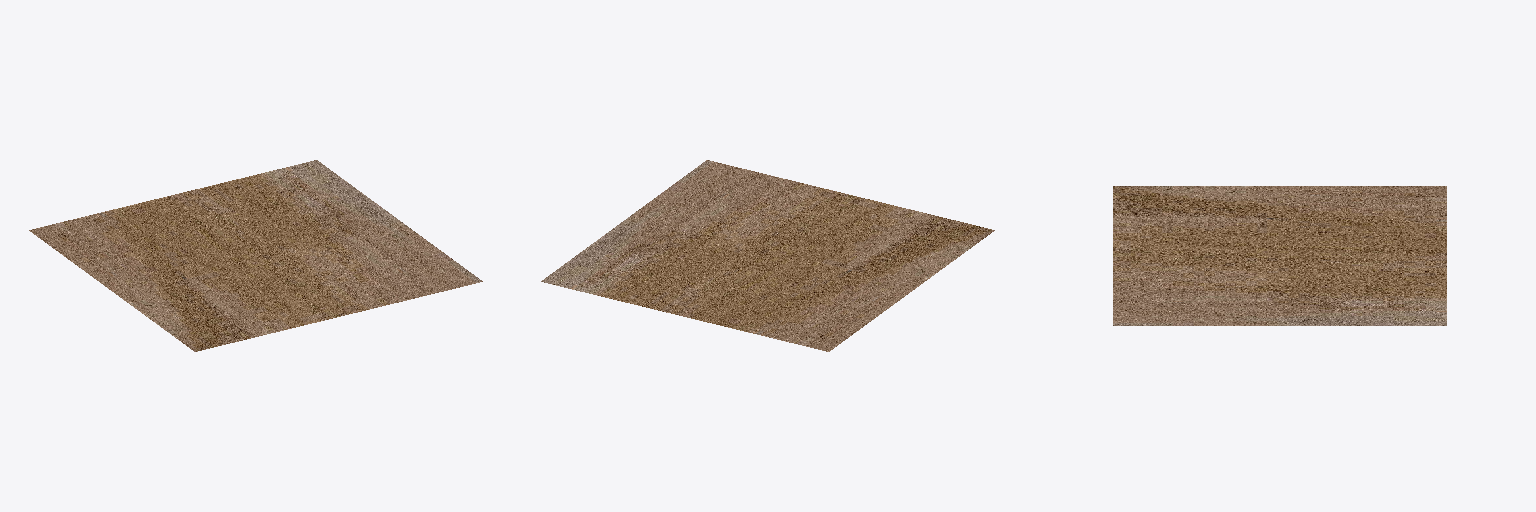
3 renders of one model, left to right at view 1: azimuth 30°, elevation 25°; view 2: azimuth 150°, elevation 25°; view 3: azimuth 270°, elevation 25°, orthographic.
Parts seen in each view (by area): view 1: Plane; view 2: Plane; view 3: Plane.
Boxes of the visible parts, x1=… form: Plane: x1=29, y1=160, x2=482, y2=351; Plane: x1=541, y1=160, x2=994, y2=351; Plane: x1=1113, y1=186, x2=1446, y2=325.
Bounding box in the file's own units: 400 × 0 × 400.
1 materials, 1 textured.